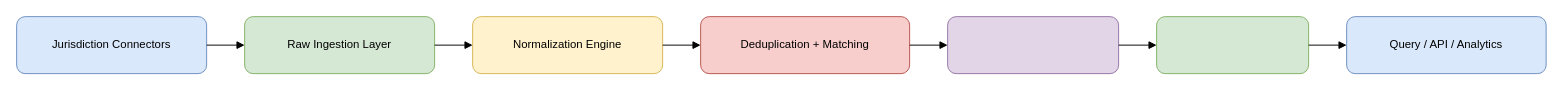
This 1563x90 diagram has some shape labels left out. Each missing label, with the box of its shape:
Enrichment Layer: (947, 16, 1119, 74)
Storage Layer: (1156, 16, 1309, 74)
